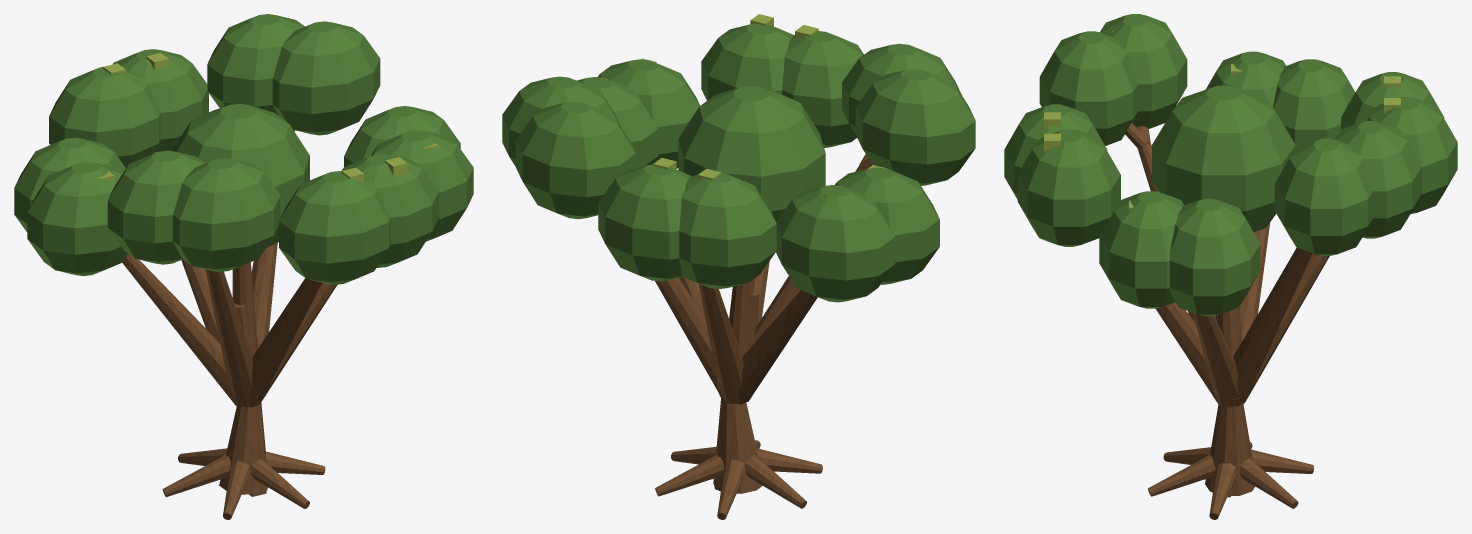
The picture shows the model from 3 angles, left to right: view 1: azimuth 30°, elevation 25°; view 2: azimuth 150°, elevation 25°; view 3: azimuth 270°, elevation 25°; orthographic projection. The views are drawn at different scales.
Visible parts, largest first — view 1: 幼树低枝与小冠尺寸族; view 2: 幼树低枝与小冠尺寸族; view 3: 幼树低枝与小冠尺寸族.
Boxes of the visible parts, left/top/right/bottom form: 幼树低枝与小冠尺寸族: left=14, top=14, right=473, bottom=519; 幼树低枝与小冠尺寸族: left=502, top=14, right=975, bottom=519; 幼树低枝与小冠尺寸族: left=1004, top=14, right=1457, bottom=519.
Size of the model in its own units: 5.49 by 5.29 by 5.33.
3 materials, 3 textured.
